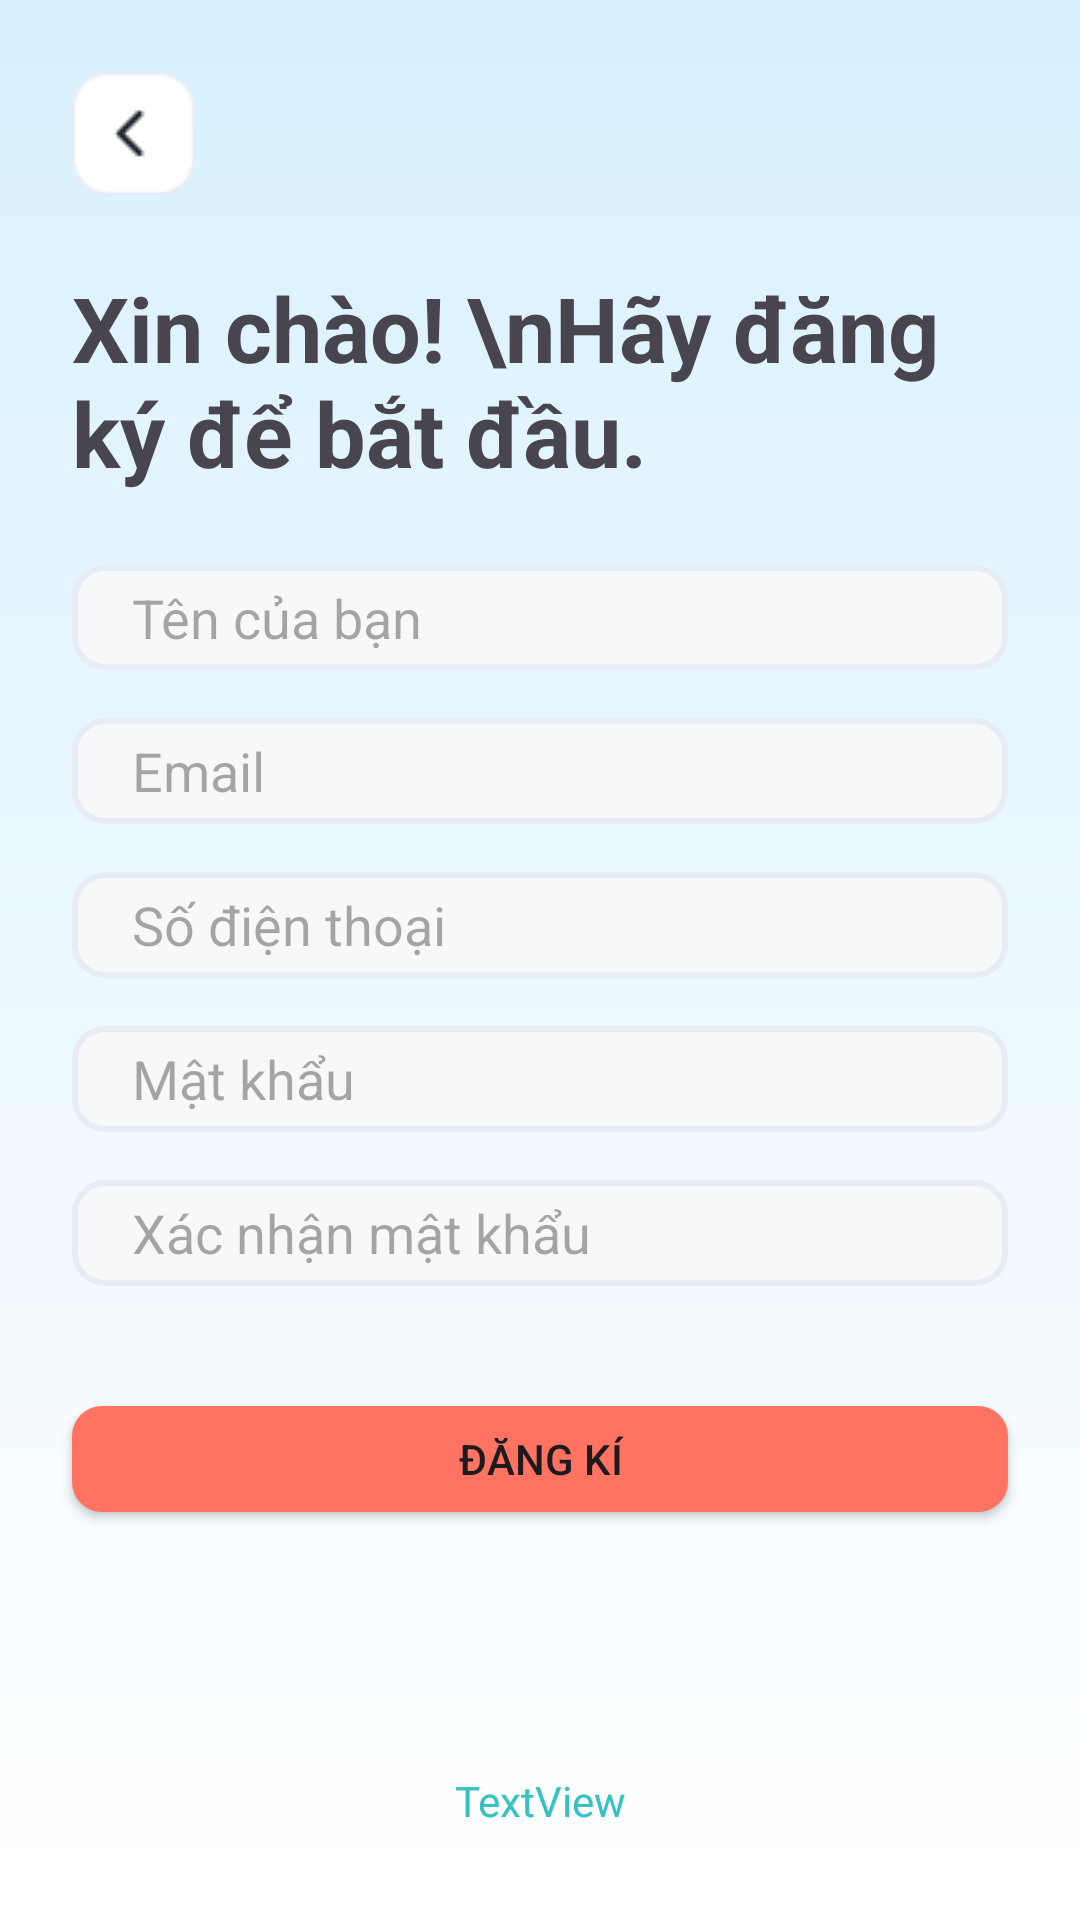

Icons on this 1080w x 1920h Android screen, each with the point to tap as (x=x, y=y):
back: (x=133, y=133)
